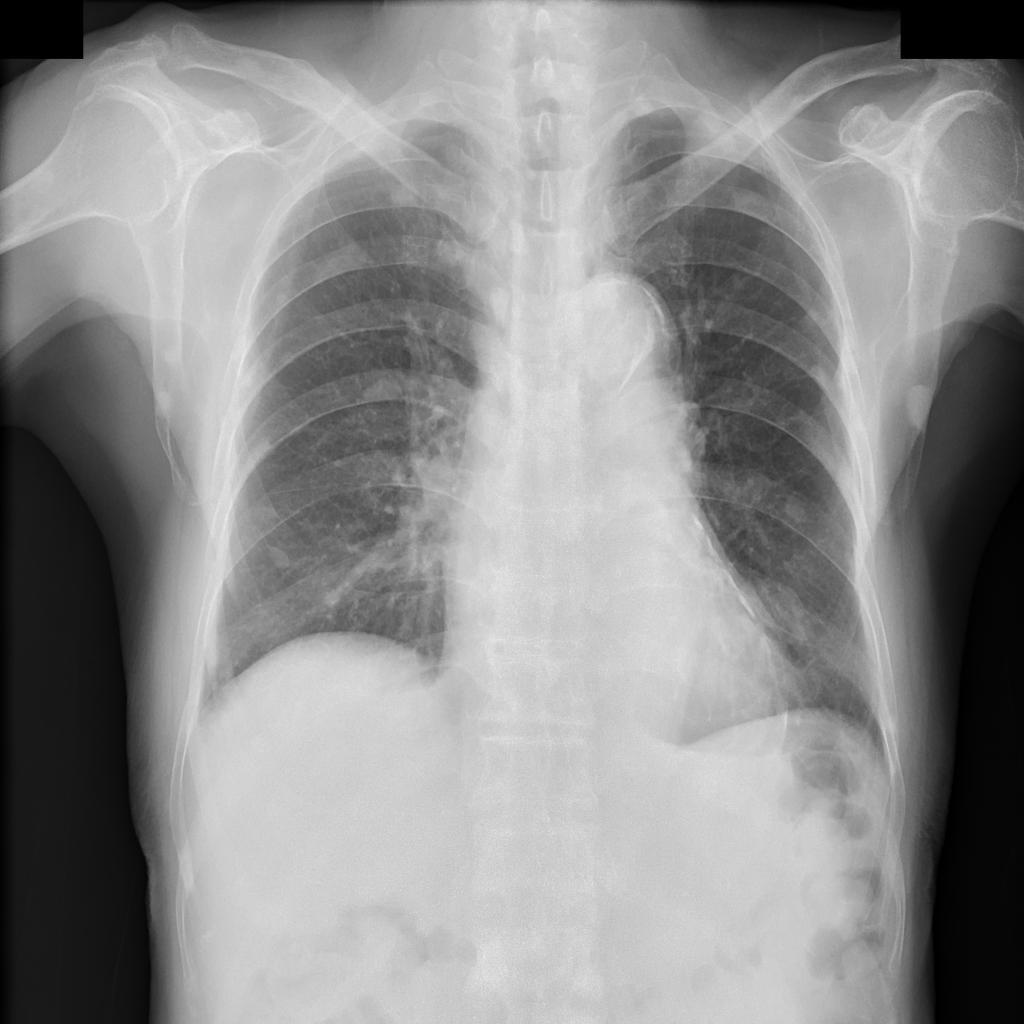Nodule: (436, 231, 460, 268), (386, 180, 419, 205), (785, 492, 807, 526), (269, 546, 290, 570), (324, 590, 343, 606)
